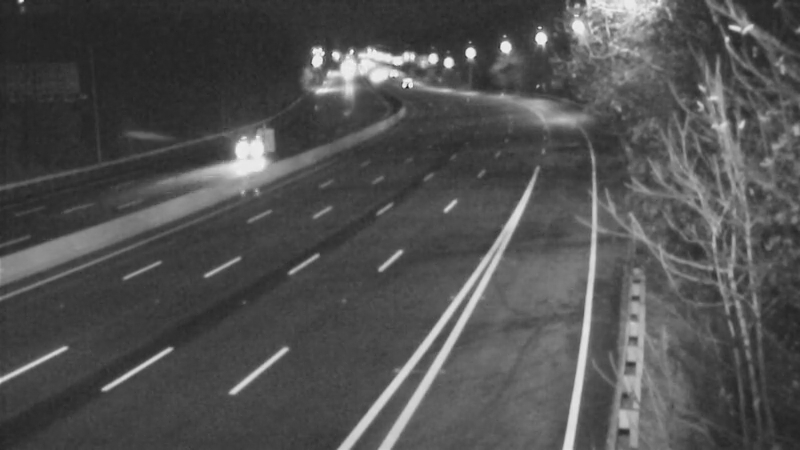vehicle: (204, 111, 284, 191), (376, 56, 426, 106), (348, 53, 398, 103)
